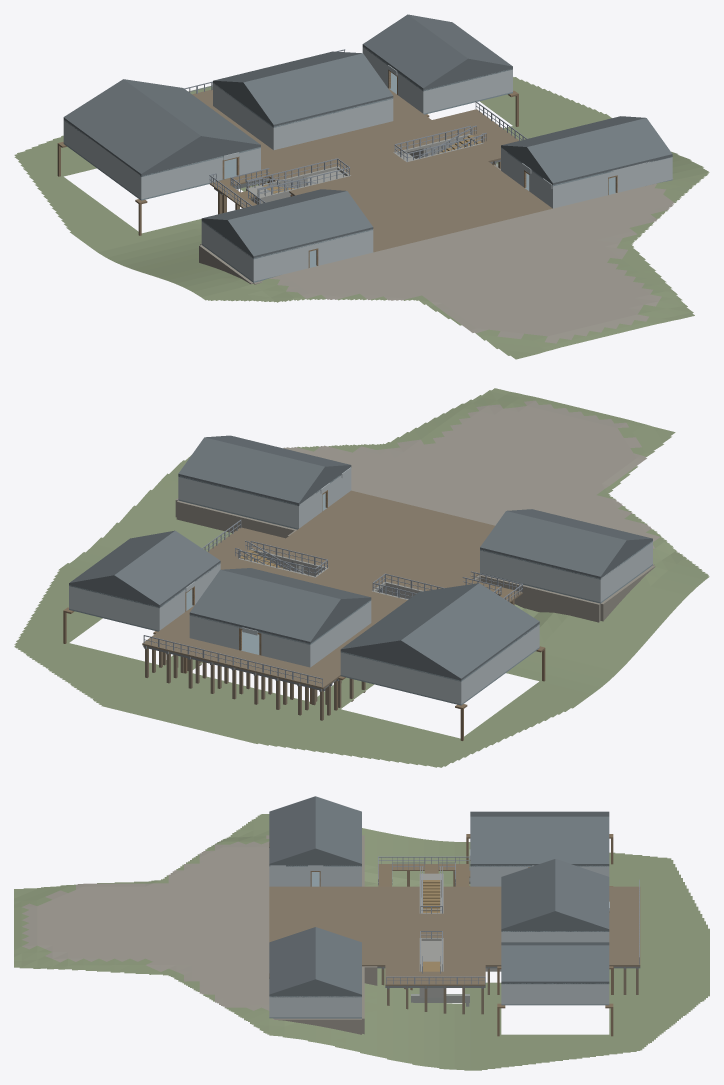
File: supported-wharf.glb
3 views of the same model, one above another, from view 1: azimuth 30°, elevation 25°; view 2: azimuth 150°, elevation 25°; view 3: azimuth 270°, elevation 25° (orthographic). The views are drawn at different scales.
Parts seen in each view (by area): view 1: Saved editor geographic earthworks WLD-06, WLD-06 quay platform structural surface region0, boathouse roof west, fish-house roof south, west-cottage roof south, east-cottage roof south, Wharf cellar roof deck rectangular openings region0, net-store roof west, boathouse roof east, Wharf east pier-head deck rectangular openings region0, WLD-06 clean fish S end, WLD-06 clean net S end (+19 smaller); view 2: Saved editor geographic earthworks WLD-06, WLD-06 quay platform structural surface region0, boathouse roof west, fish-house roof north, east-cottage roof north, west-cottage roof north, net-store roof west, WLD-06 cross dock structural surface region0, boathouse roof east, WLD-06 clean boathouse N end, WLD-06 clean cottage-a N end, WLD-06 clean cottage-b N end (+17 smaller); view 3: Saved editor geographic earthworks WLD-06, WLD-06 quay platform structural surface region0, boathouse roof east, Wharf cellar roof deck rectangular openings region0, net-store roof east, fish-house roof south, fish-house roof north, Wharf east pier-head deck rectangular openings region0, WLD-06 cross dock structural surface region0, west-cottage roof north, west-cottage roof south, east-cottage roof south (+14 smaller).
Part boxes in pixels (bbox=[...]): Saved editor geographic earthworks WLD-06: bbox=[14, 77, 709, 359]; WLD-06 quay platform structural surface region0: bbox=[322, 152, 552, 252]; boathouse roof west: bbox=[63, 79, 200, 174]; fish-house roof south: bbox=[243, 53, 393, 126]; west-cottage roof south: bbox=[227, 191, 373, 257]; east-cottage roof south: bbox=[527, 118, 672, 184]; Wharf cellar roof deck rectangular openings region0: bbox=[274, 121, 444, 188]; net-store roof west: bbox=[362, 14, 468, 89]; boathouse roof east: bbox=[124, 79, 260, 146]; Wharf east pier-head deck rectangular openings region0: bbox=[402, 109, 518, 162]; WLD-06 clean fish S end: bbox=[272, 98, 393, 150]; WLD-06 clean net S end: bbox=[422, 69, 512, 113]; Saved editor geographic earthworks WLD-06: bbox=[14, 388, 709, 767]; WLD-06 quay platform structural surface region0: bbox=[273, 490, 494, 588]; boathouse roof west: bbox=[401, 583, 539, 680]; fish-house roof north: bbox=[189, 570, 340, 643]; east-cottage roof north: bbox=[178, 437, 324, 504]; west-cottage roof north: bbox=[480, 511, 626, 578]; net-store roof west: bbox=[114, 530, 220, 606]; WLD-06 cross dock structural surface region0: bbox=[142, 631, 340, 688]; boathouse roof east: bbox=[340, 583, 478, 650]; WLD-06 clean boathouse N end: bbox=[340, 652, 462, 704]; WLD-06 clean cottage-a N end: bbox=[480, 550, 601, 602]; WLD-06 clean cottage-b N end: bbox=[178, 477, 299, 528]; Saved editor geographic earthworks WLD-06: bbox=[14, 814, 709, 1070]; WLD-06 quay platform structural surface region0: bbox=[269, 886, 408, 966]; boathouse roof east: bbox=[470, 816, 609, 865]; Wharf cellar roof deck rectangular openings region0: bbox=[408, 899, 501, 951]; net-store roof east: bbox=[501, 945, 609, 982]; fish-house roof south: bbox=[501, 859, 555, 930]; fish-house roof north: bbox=[555, 859, 609, 930]; Wharf east pier-head deck rectangular openings region0: bbox=[385, 952, 485, 985]; WLD-06 cross dock structural surface region0: bbox=[609, 886, 640, 966]; west-cottage roof north: bbox=[315, 796, 361, 865]; west-cottage roof south: bbox=[269, 796, 315, 865]; east-cottage roof south: bbox=[269, 927, 315, 995].
Bounding box in the file's own units: 70 × 11.34 × 90.
Materials: 41 (18 with a texture image).
